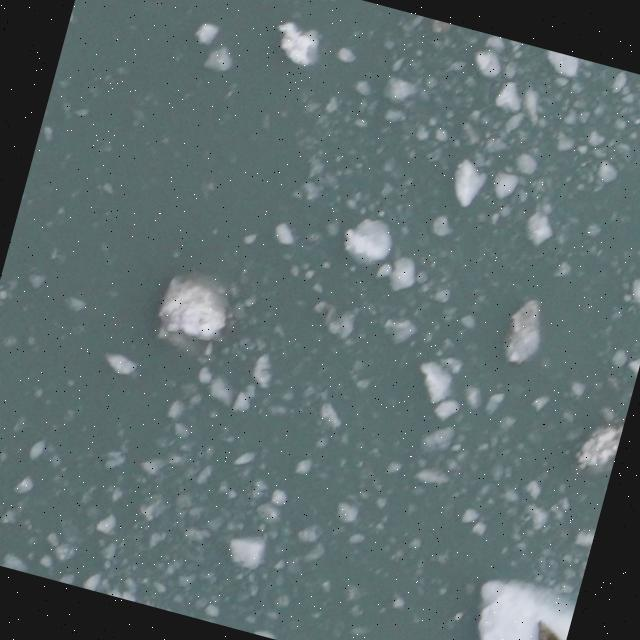seal: (529, 616, 568, 640)
